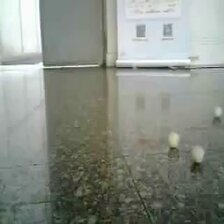w: (190, 145, 205, 162), (166, 132, 181, 147), (212, 106, 224, 118)
